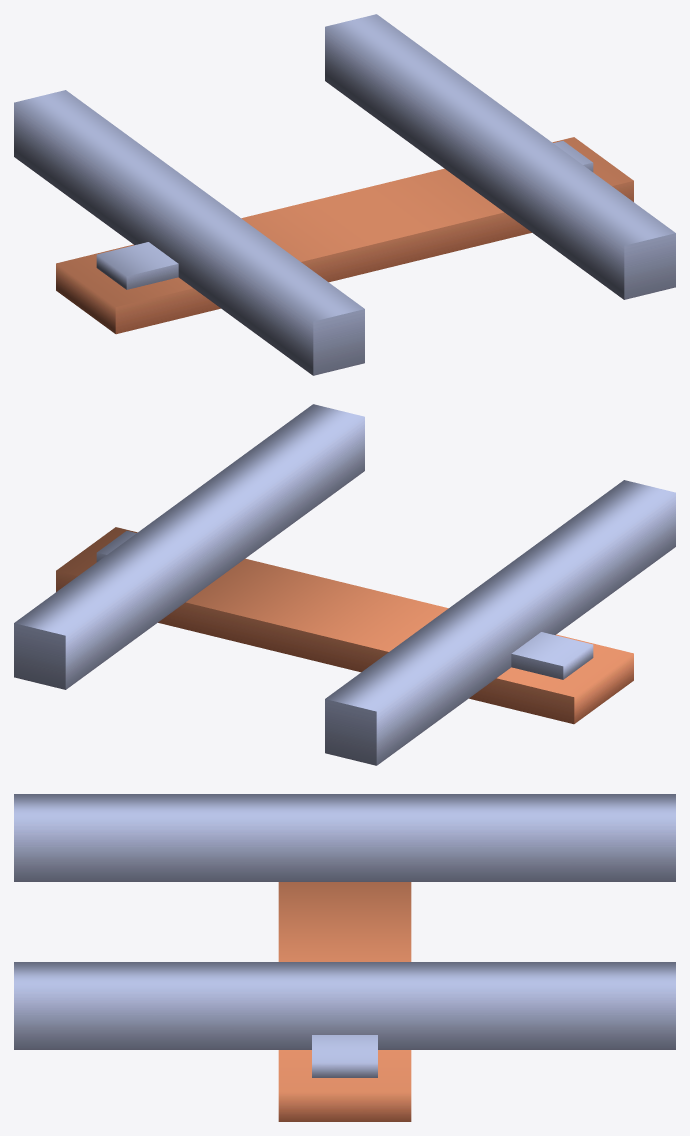
File: kenney-train-track-single-detailed.glb
3 renders of one model, top to bottom at view 1: azimuth 30°, elevation 25°; view 2: azimuth 150°, elevation 25°; view 3: azimuth 270°, elevation 25°, orthographic. The views are drawn at different scales.
Parts seen in each view (by area): view 1: track-single-detailed; view 2: track-single-detailed; view 3: track-single-detailed.
Part boxes in pixels (x1,y1,x2,y2): track-single-detailed: (14,14,675,375); track-single-detailed: (14,404,675,765); track-single-detailed: (14,794,675,1121).
Bounding box in the file's own units: 1 × 0.15 × 1.
Materials: 1 (1 with a texture image).
